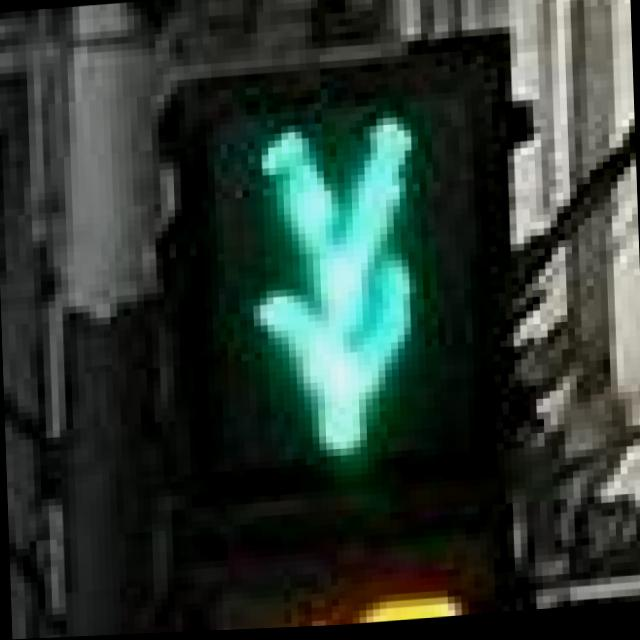green_light: (156, 87, 477, 538)
